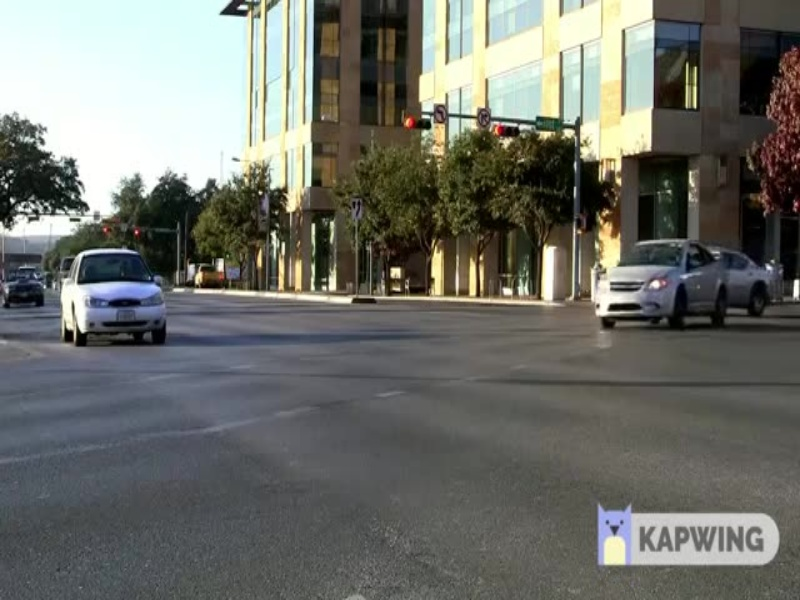car: (597, 239, 728, 339), (46, 243, 166, 350)
